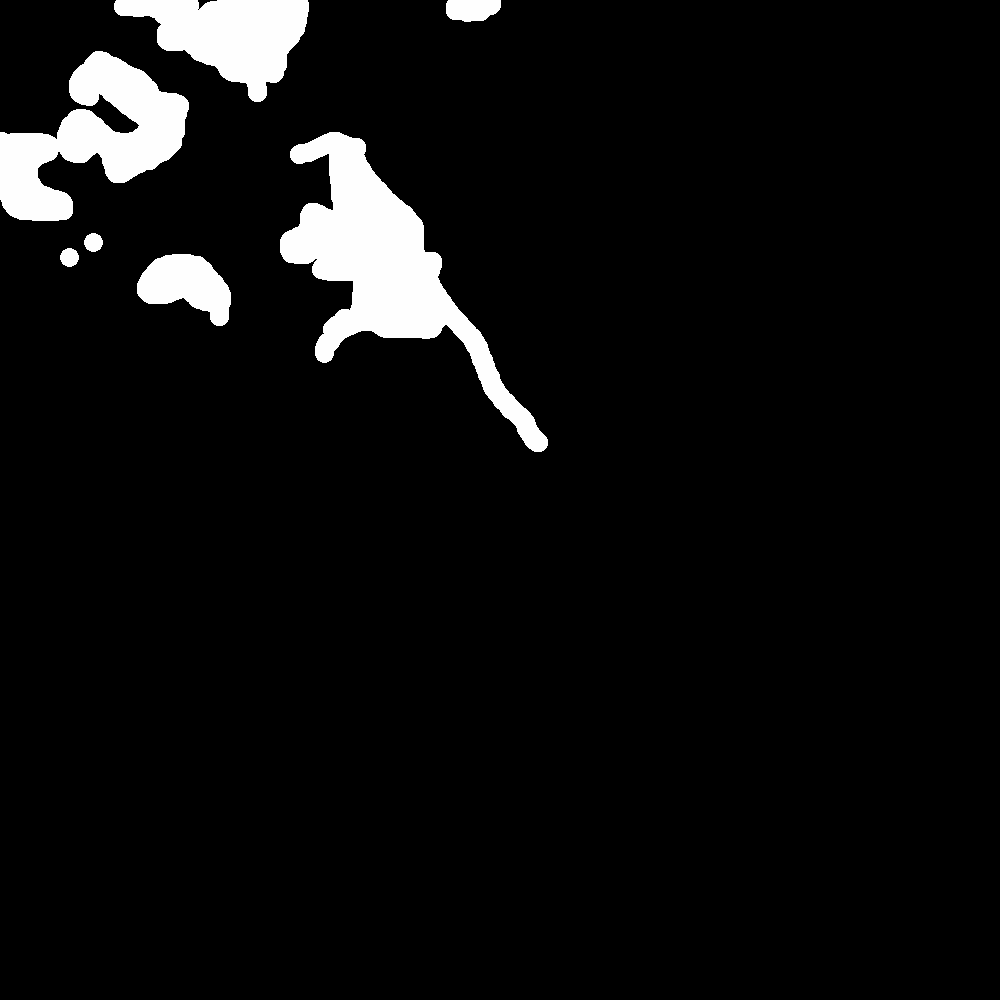illegal: (292, 138, 544, 449), (1, 52, 183, 224), (141, 1, 313, 105), (140, 255, 229, 327), (457, 1, 497, 28)
